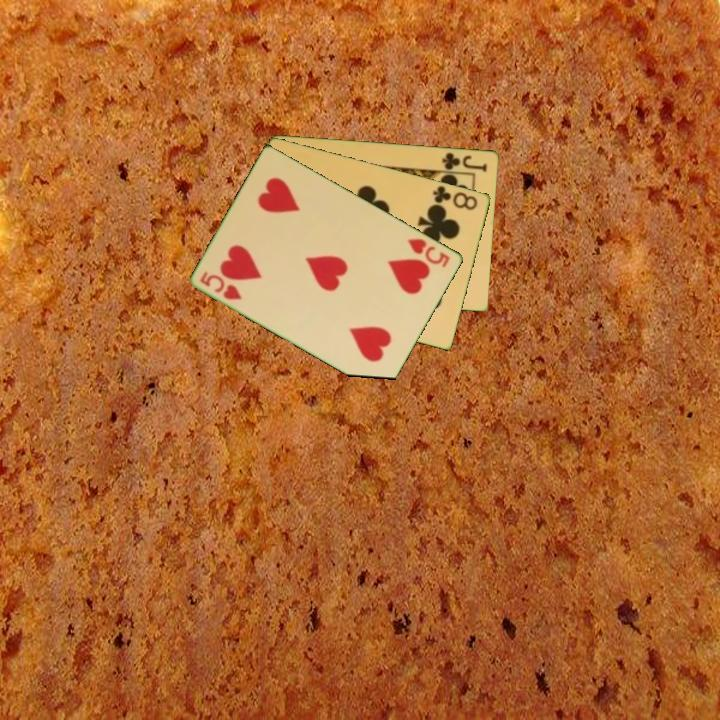5h: (404, 235, 453, 271), (197, 268, 245, 303)
8c: (430, 182, 481, 213)
Jc: (439, 149, 490, 174)
